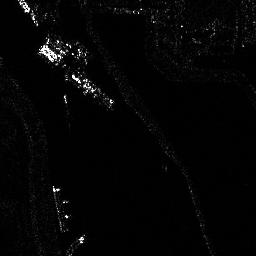ship: (64, 66, 116, 110)
